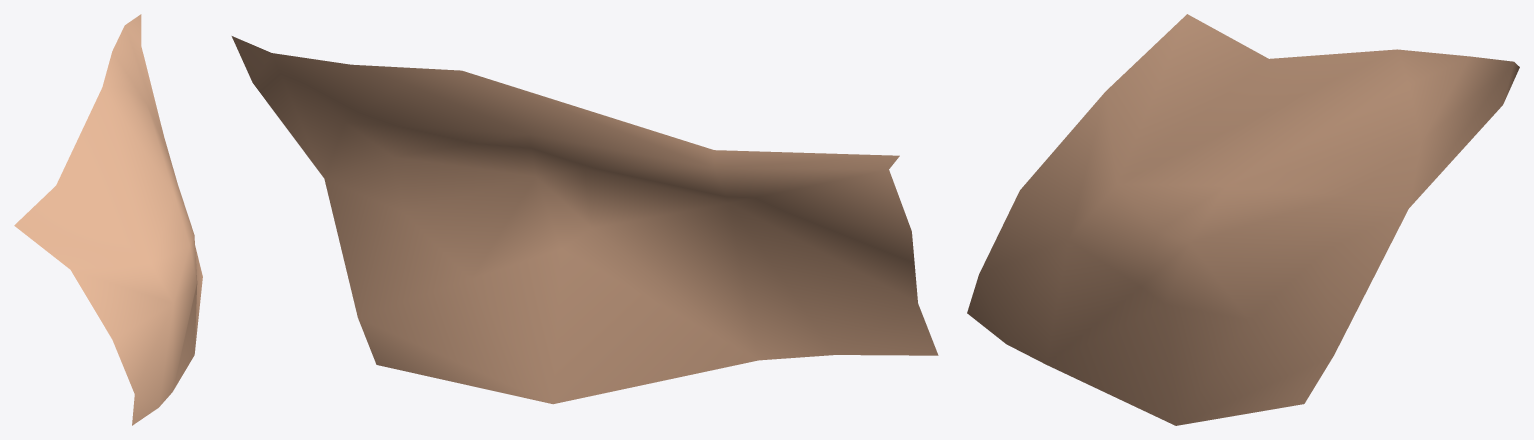
Rendered from antitragus-l.glb.
3 renders of one model, left to right at view 1: azimuth 30°, elevation 25°; view 2: azimuth 150°, elevation 25°; view 3: azimuth 270°, elevation 25°, orthographic. The views are drawn at different scales.
Parts seen in each view (by area): view 1: Antitragus.l; view 2: Antitragus.l; view 3: Antitragus.l.
Part boxes in pixels (x1,y1,x2,y2): Antitragus.l: (14,14,202,425); Antitragus.l: (231,36,938,404); Antitragus.l: (967,14,1519,425).
Size of the model in its own units: 0.0108 by 0.0111 by 0.0139.
